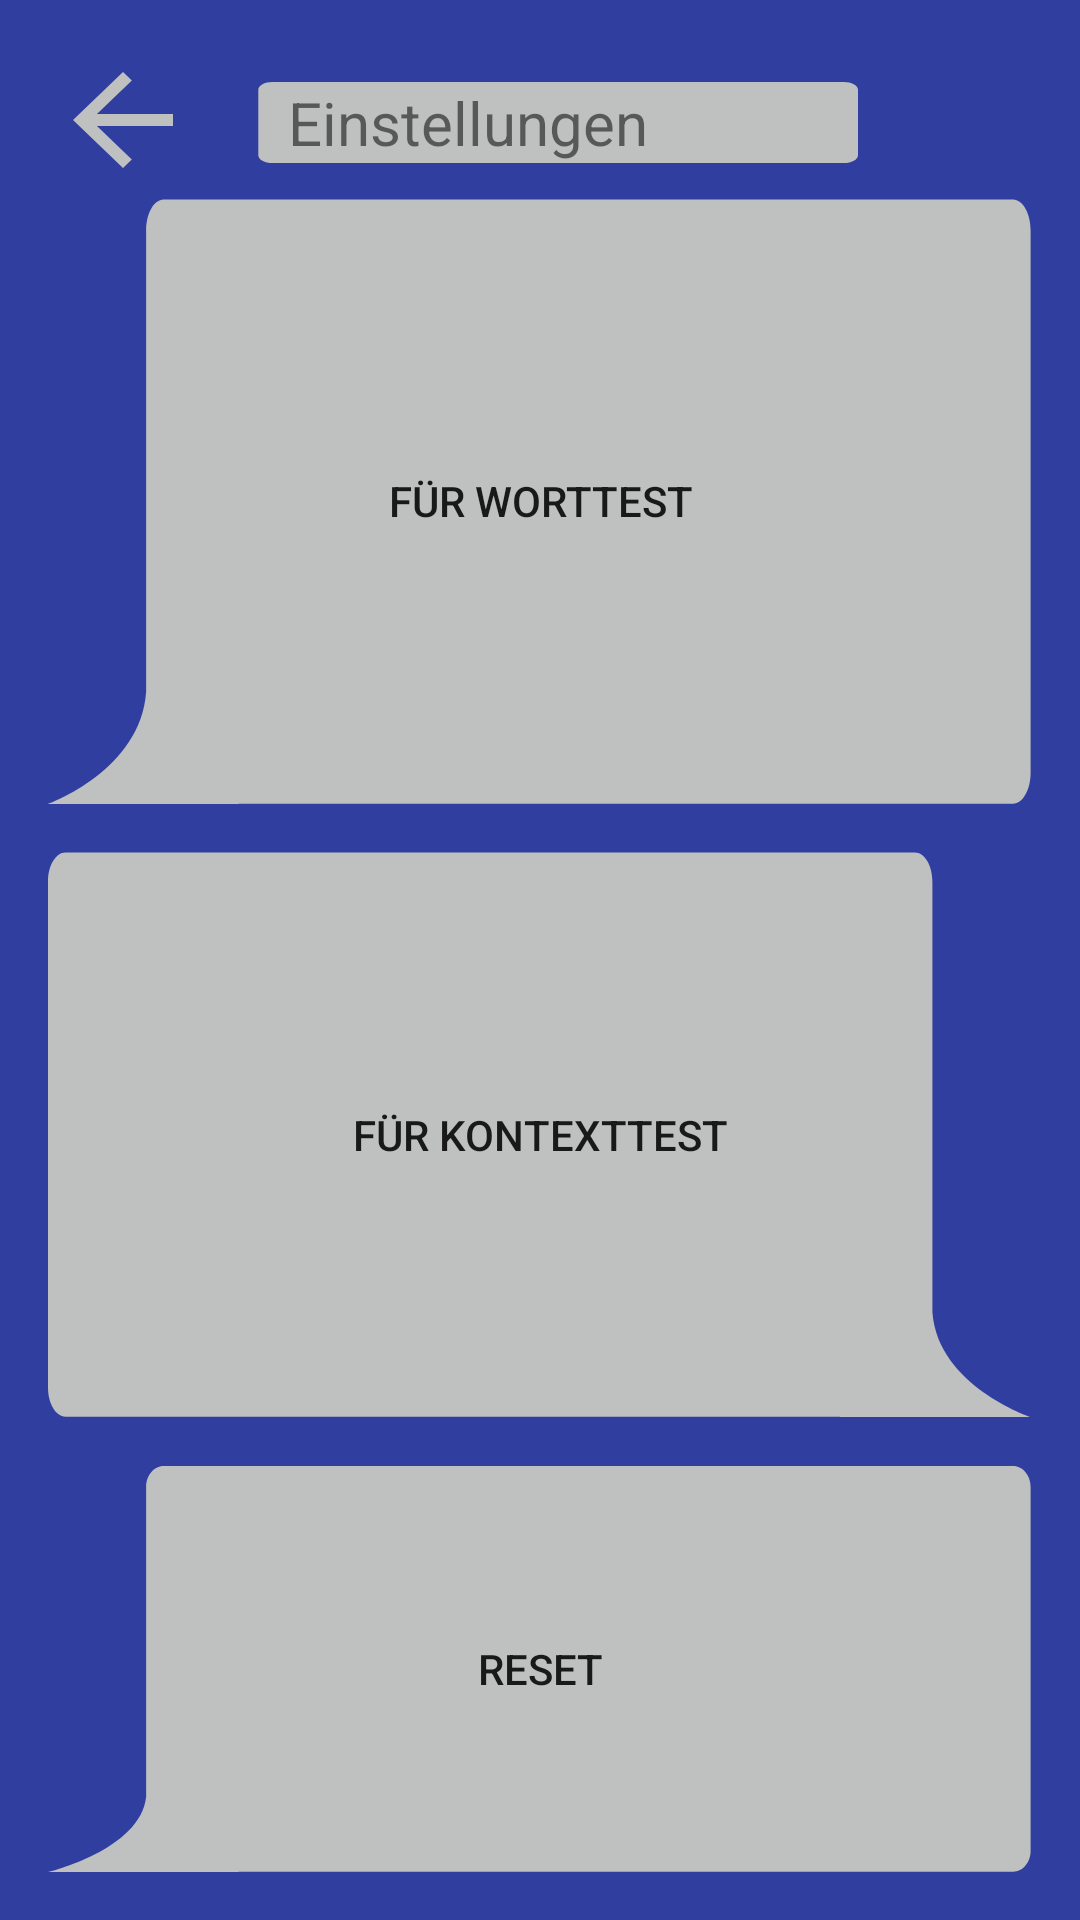

Locate icon controls on the screen. Image size 1080 x 1920, boxes as (x1, y1, x2, y2).
arrow back: (73, 72, 173, 168)
